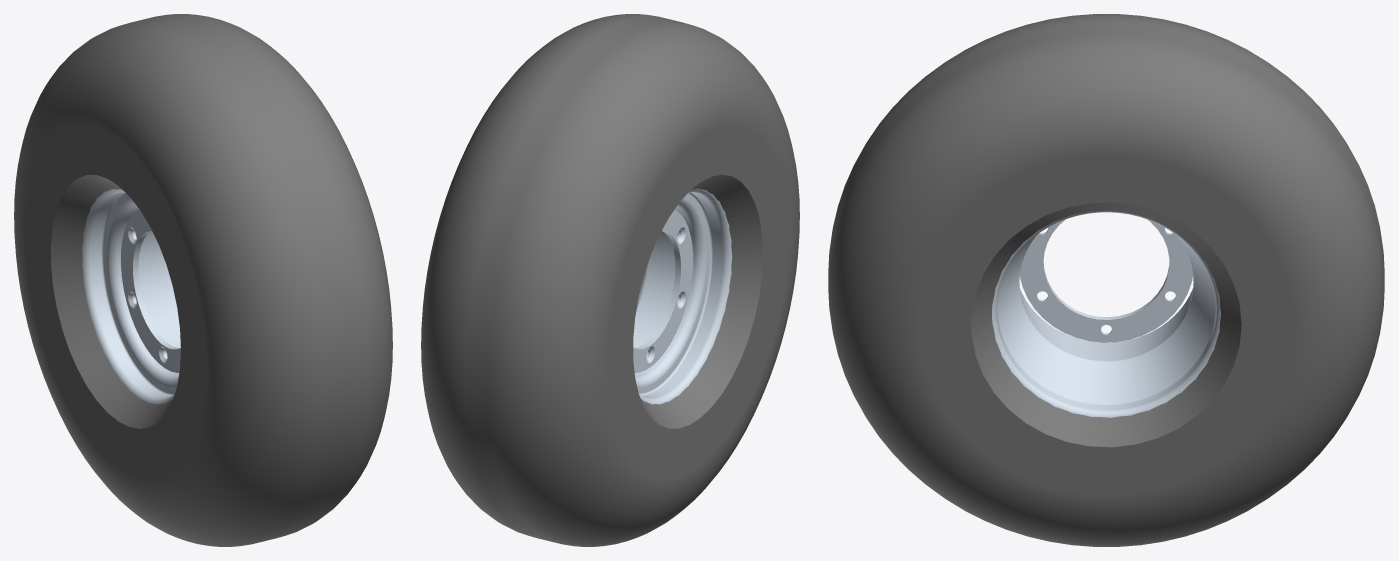
File: Wheel.fbx
3 views of the same model, side by side, from view 1: azimuth 30°, elevation 25°; view 2: azimuth 150°, elevation 25°; view 3: azimuth 270°, elevation 25° (orthographic). The views are drawn at different scales.
Visible parts, largest first — view 1: Wheel; view 2: Wheel; view 3: Wheel.
Part boxes in pixels (x1,y1,x2,y2): Wheel: (14,14,392,546); Wheel: (421,14,799,546); Wheel: (828,14,1384,546).
Bounding box in the file's own units: 18.5 × 48.96 × 49.
